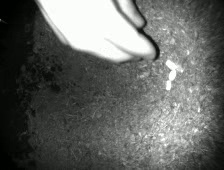corn: (165, 58, 178, 72), (167, 68, 179, 83), (174, 61, 185, 75), (163, 78, 174, 92)
